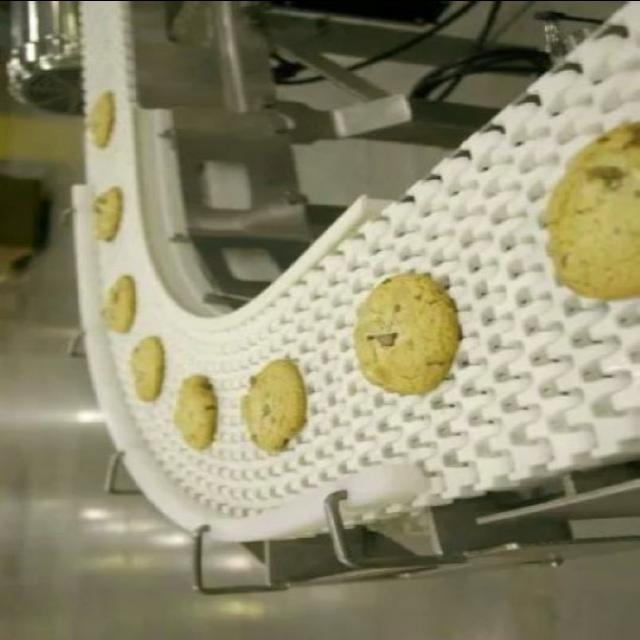food: (520, 120, 640, 310), (350, 272, 461, 396), (234, 350, 324, 454), (159, 358, 228, 452)
